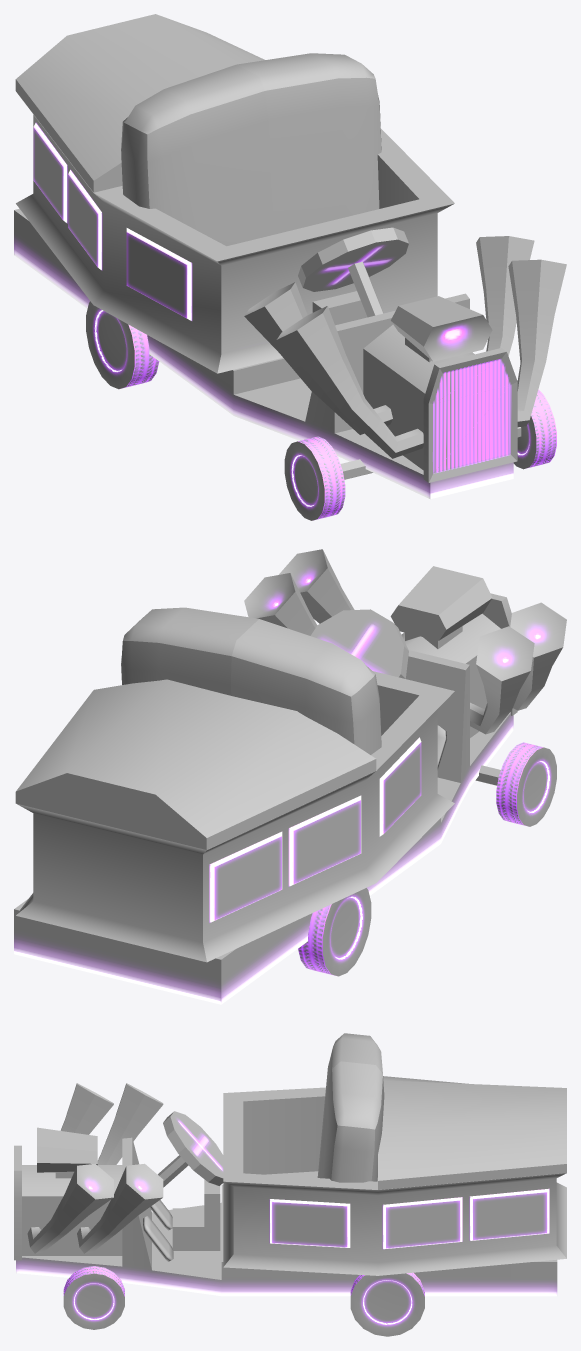
The model's file is Coffin_Kart.fbx.
The picture shows the model from 3 angles, top to bottom: view 1: azimuth 30°, elevation 25°; view 2: azimuth 150°, elevation 25°; view 3: azimuth 270°, elevation 25°; orthographic projection. The views are drawn at different scales.
Visible parts, largest first — view 1: Coffin, Engine, Chasis, Steering_Wheel, Front_Wheels1, Rear_Wheels1, Front_Wheels; view 2: Coffin, Engine, Chasis, Rear_Wheels1, Front_Wheels1, Steering_Wheel; view 3: Coffin, Engine, Chasis, Rear_Wheels, Front_Wheels, Steering_Wheel, Pedals.
Boxes of the visible parts, x1,y1,x2,y2 form: Coffin: (15,14,454,373); Engine: (244,236,566,482); Chasis: (14,208,521,499); Steering_Wheel: (298,227,408,317); Front_Wheels1: (284,436,345,520); Rear_Wheels1: (86,301,159,389); Front_Wheels: (513,389,556,469); Coffin: (15,607,454,962); Engine: (244,549,566,737); Chasis: (14,650,513,1004); Rear_Wheels1: (298,888,371,976); Front_Wheels1: (496,742,556,826); Steering_Wheel: (310,609,408,678); Coffin: (223,1033,566,1275); Engine: (14,1083,163,1260); Chasis: (16,1137,557,1296); Rear_Wheels: (350,1272,424,1336); Front_Wheels: (63,1266,124,1329); Steering_Wheel: (158,1111,223,1187); Pedals: (143,1216,173,1261).
Size of the model in its own units: 109 by 110 by 239.
